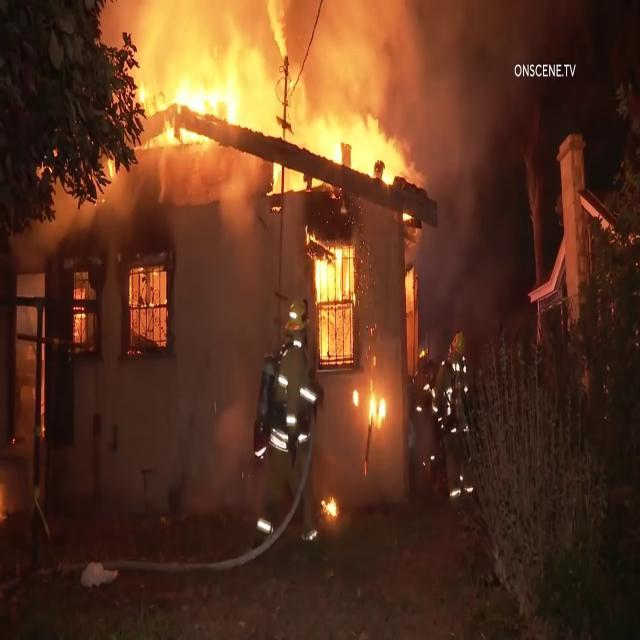Fire: (124, 64, 396, 210), (356, 376, 396, 471), (321, 270, 357, 358), (321, 479, 342, 539)
Smoke: (418, 2, 530, 286)
